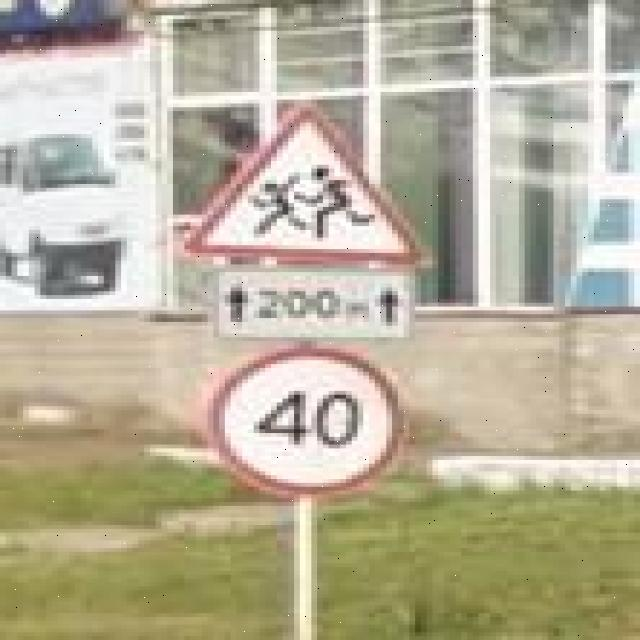speed limit 40: (211, 347, 404, 497)
